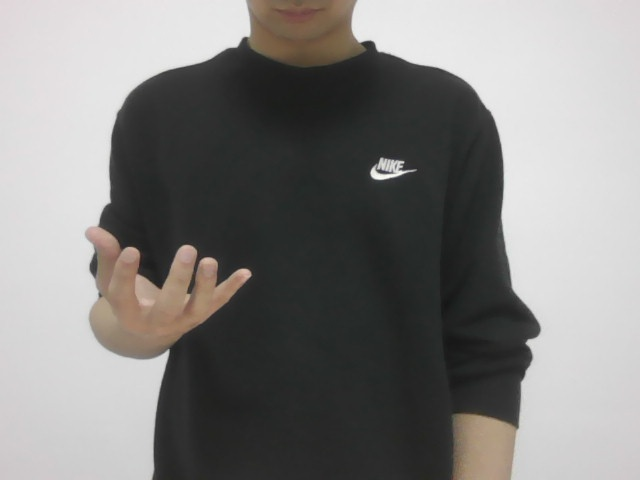flavor: (78, 216, 249, 341)
